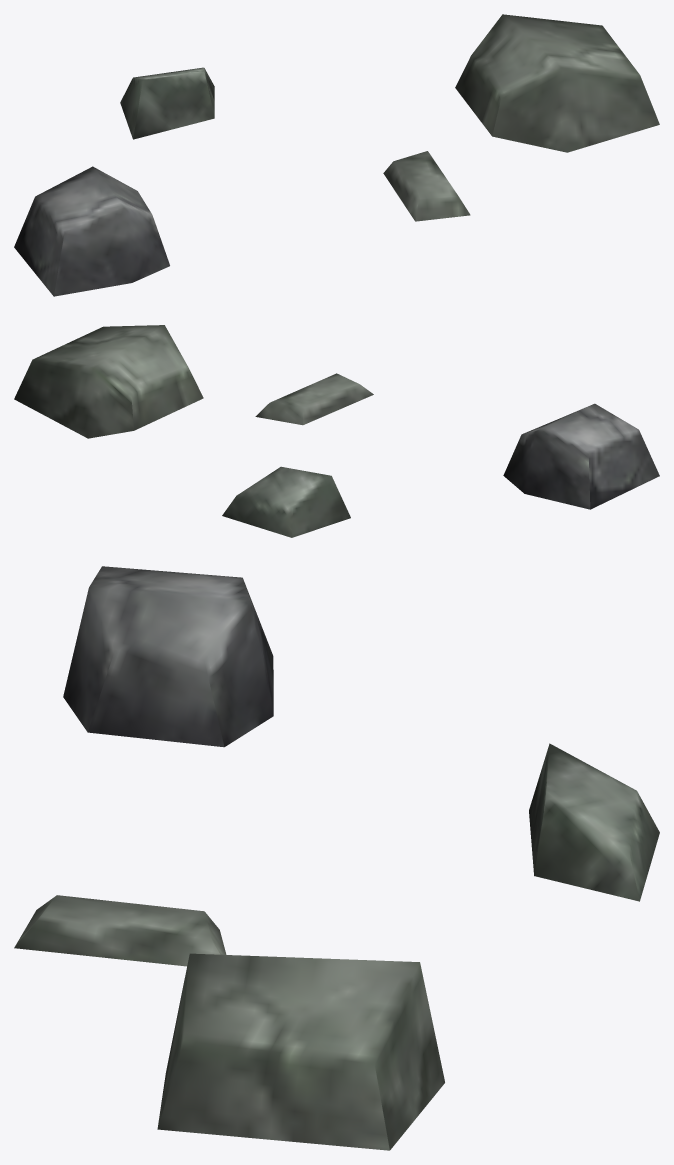
Rendered from Area_13_47.fbx.
The picture shows the model from 3 angles, top to bottom: view 1: azimuth 30°, elevation 25°; view 2: azimuth 150°, elevation 25°; view 3: azimuth 270°, elevation 25°; orthographic projection. The views are drawn at different scales.
Visible parts, largest first — view 1: Area_13_47; view 2: Area_13_47; view 3: Area_13_47.
Boxes of the visible parts, x1,y1,x2,y2 form: Area_13_47: (14,14,659,296); Area_13_47: (14,325,659,537); Area_13_47: (14,566,659,1150).
Size of the model in its own units: 241 by 26.77 by 129.
